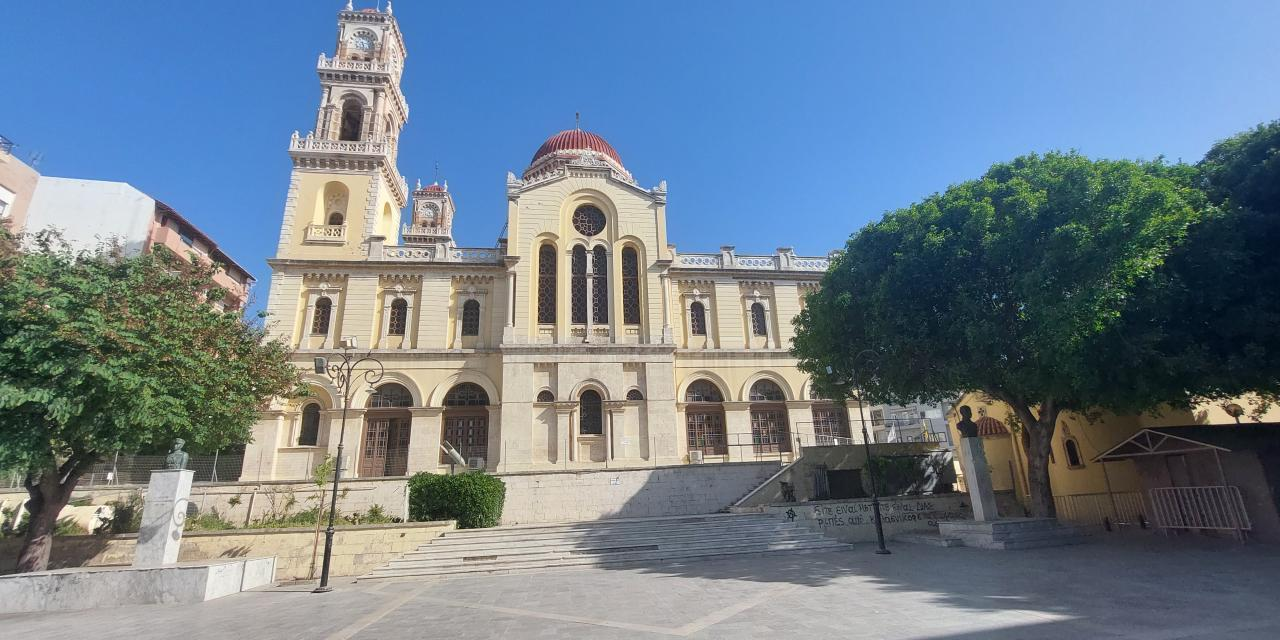Agios Minas: (240, 4, 877, 453)
